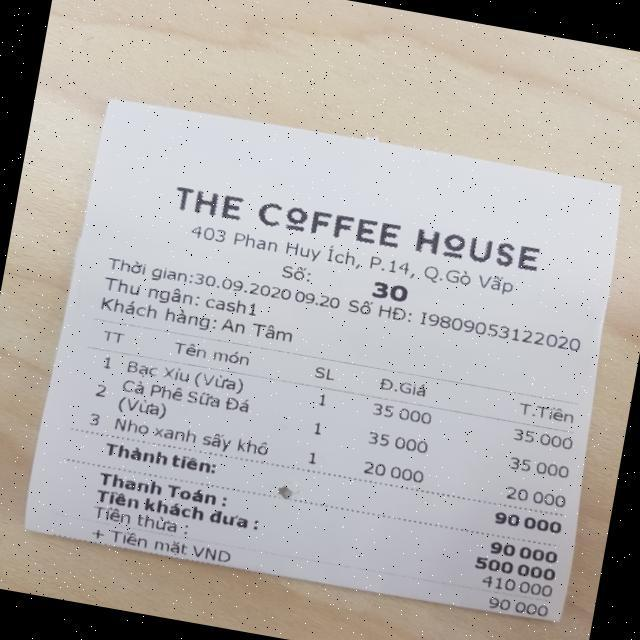Date: (192, 268, 292, 305)
Store_Name: (163, 179, 572, 262)
amount_number: (491, 508, 566, 538)
label_total: (101, 436, 218, 480)
